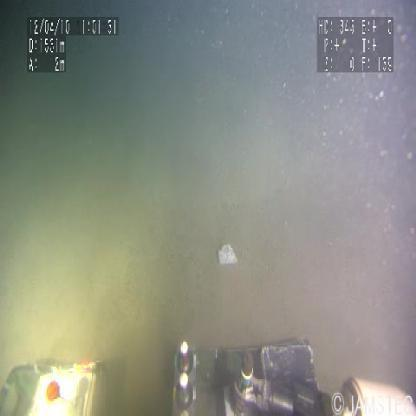Rác: (219, 244, 240, 268)
